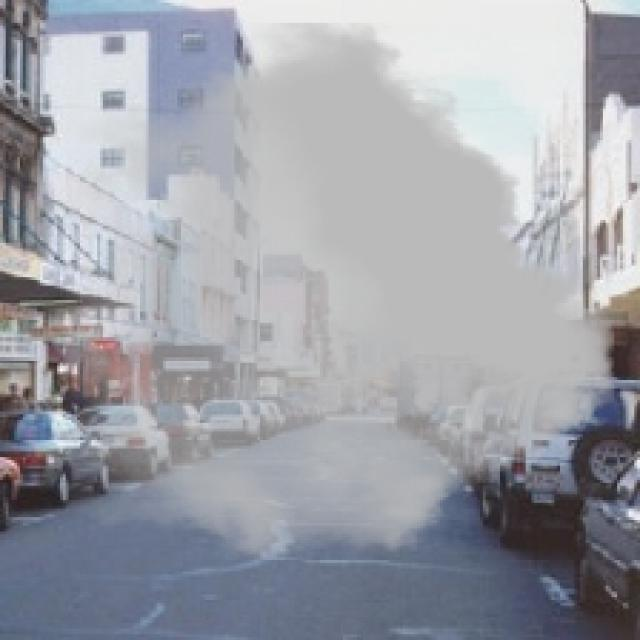smoke: (66, 23, 614, 560)
